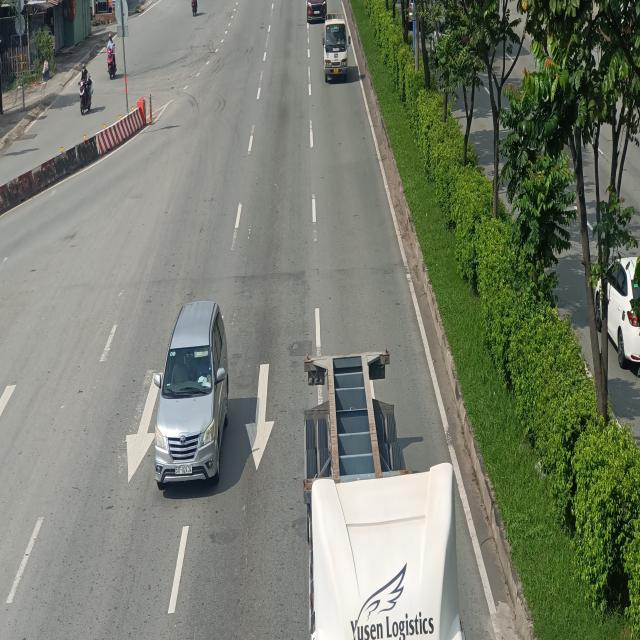car: (156, 301, 230, 487)
container: (297, 347, 466, 640)
truck: (322, 13, 352, 80)
